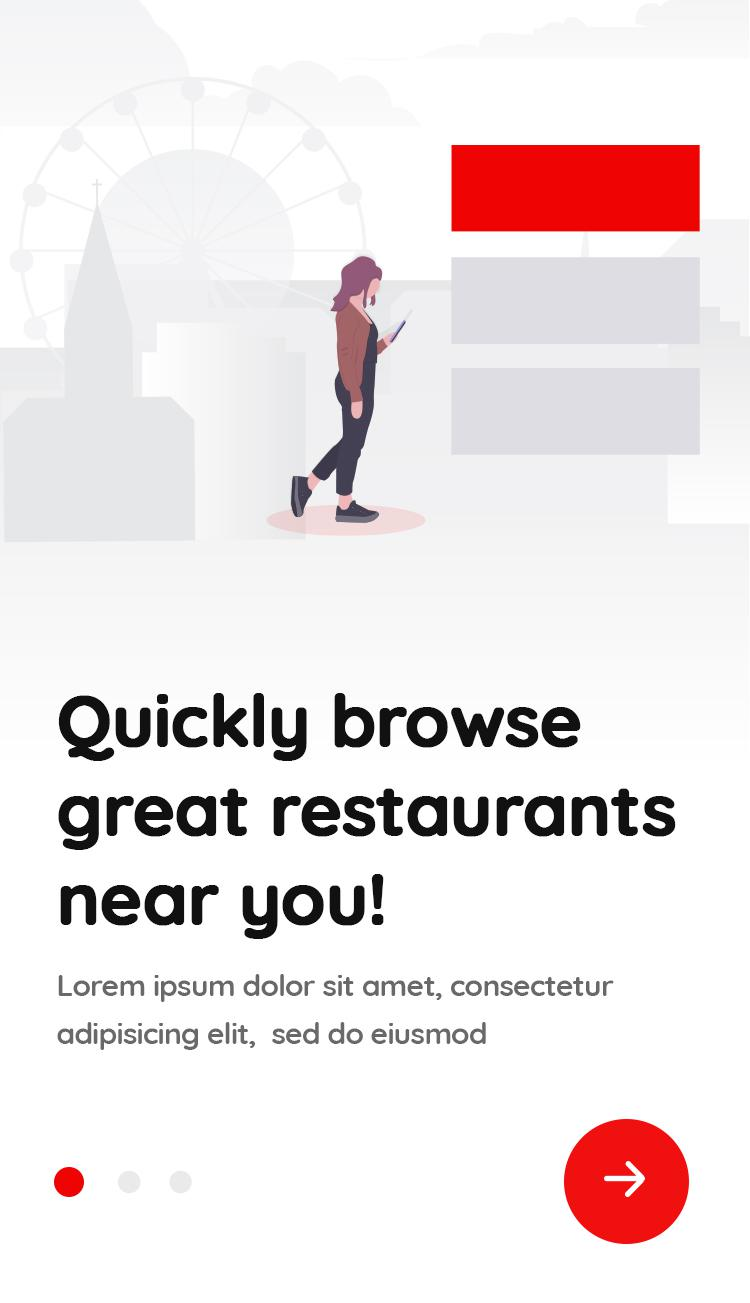Icon: (563, 1117, 691, 1246)
Image: (1, 1, 750, 546)
PageIndicator: (53, 1165, 195, 1199)
Text: (57, 691, 678, 942), (58, 972, 616, 1052)
